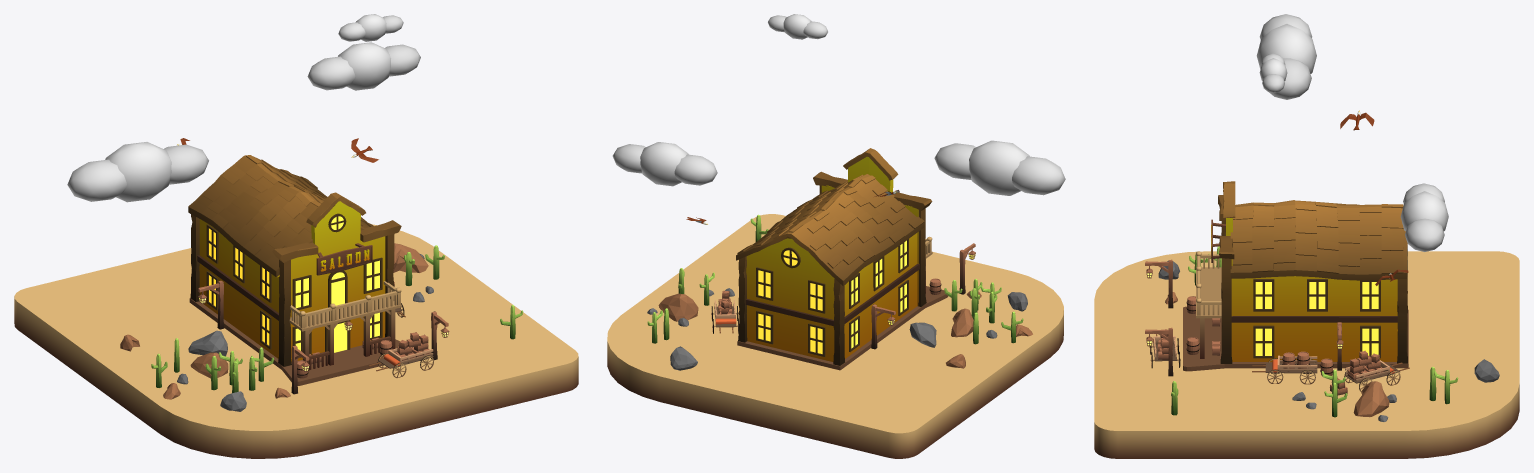
The model's file is low_poly_western_building_and_environment.glb.
The picture shows the model from 3 angles, left to right: view 1: azimuth 30°, elevation 25°; view 2: azimuth 150°, elevation 25°; view 3: azimuth 270°, elevation 25°; orthographic projection. The views are drawn at different scales.
Visible parts, largest first — view 1: e_terrain_56, b_building_facade_45, 01_cloud.001_7, b_windows_51, b_building_pillars_47, 01_cloud.002_8, b_building_railings_48, b_building_floor_46, 01_box2.003_31, 01_cloud.003_9, b_building_sign_49, 01_stone3.001_5 (+1 smaller); view 2: e_terrain_56, b_building_facade_45, 01_cloud.001_7, b_windows_51, b_building_pillars_47, 01_cloud.002_8, b_building_floor_46, 01_cloud.003_9, 01_stone4.001_1, 01_box2.001_32, 01_stone4.002_2, 01_stone3.001_5 (+1 smaller); view 3: e_terrain_56, b_building_facade_45, b_windows_51, 01_cloud.001_7, b_building_pillars_47, 01_cloud.002_8, b_building_floor_46, b_building_railings_48, 01_box2.001_32, 01_cart.001_0, 01_stone4.001_1, 01_cloud.003_9 (+4 smaller).
Part boxes in pixels (box(x1,y1,x2,y2)): e_terrain_56: box(14, 224, 578, 458); b_building_facade_45: box(188, 155, 385, 361); 01_cloud.001_7: box(67, 142, 208, 202); b_windows_51: box(206, 213, 382, 357); b_building_pillars_47: box(190, 192, 401, 366); 01_cloud.002_8: box(307, 42, 420, 90); b_building_railings_48: box(289, 281, 401, 370); b_building_floor_46: box(189, 298, 399, 385); 01_box2.003_31: box(368, 332, 433, 377); 01_cloud.003_9: box(338, 14, 403, 41); b_building_sign_49: box(316, 243, 372, 275); 01_stone3.001_5: box(188, 330, 227, 356); e_terrain_56: box(607, 214, 1063, 458); b_building_facade_45: box(736, 156, 924, 361); 01_cloud.001_7: box(934, 140, 1065, 195); b_windows_51: box(756, 239, 908, 356); b_building_pillars_47: box(738, 148, 932, 365); 01_cloud.002_8: box(612, 142, 717, 186); b_building_floor_46: box(737, 286, 948, 370); 01_cloud.003_9: box(768, 14, 827, 39); 01_stone4.001_1: box(658, 293, 698, 321); 01_box2.001_32: box(711, 290, 739, 333); 01_stone4.002_2: box(951, 308, 973, 337); 01_stone3.001_5: box(909, 322, 936, 347); e_terrain_56: box(1094, 251, 1519, 458); b_building_facade_45: box(1226, 200, 1407, 361); b_windows_51: box(1224, 232, 1380, 358); 01_cloud.001_7: box(1256, 14, 1316, 99); b_building_pillars_47: box(1218, 181, 1407, 363); 01_cloud.002_8: box(1400, 183, 1448, 251); b_building_floor_46: box(1183, 306, 1408, 371); b_building_railings_48: box(1196, 251, 1221, 358); 01_box2.001_32: box(1344, 350, 1409, 392); 01_cart.001_0: box(1252, 355, 1317, 384); 01_stone4.001_1: box(1353, 381, 1389, 417); 01_cloud.003_9: box(1259, 53, 1287, 93).
Size of the model in its own units: 9.93 by 7.61 by 8.72.
10 materials, 1 textured.
